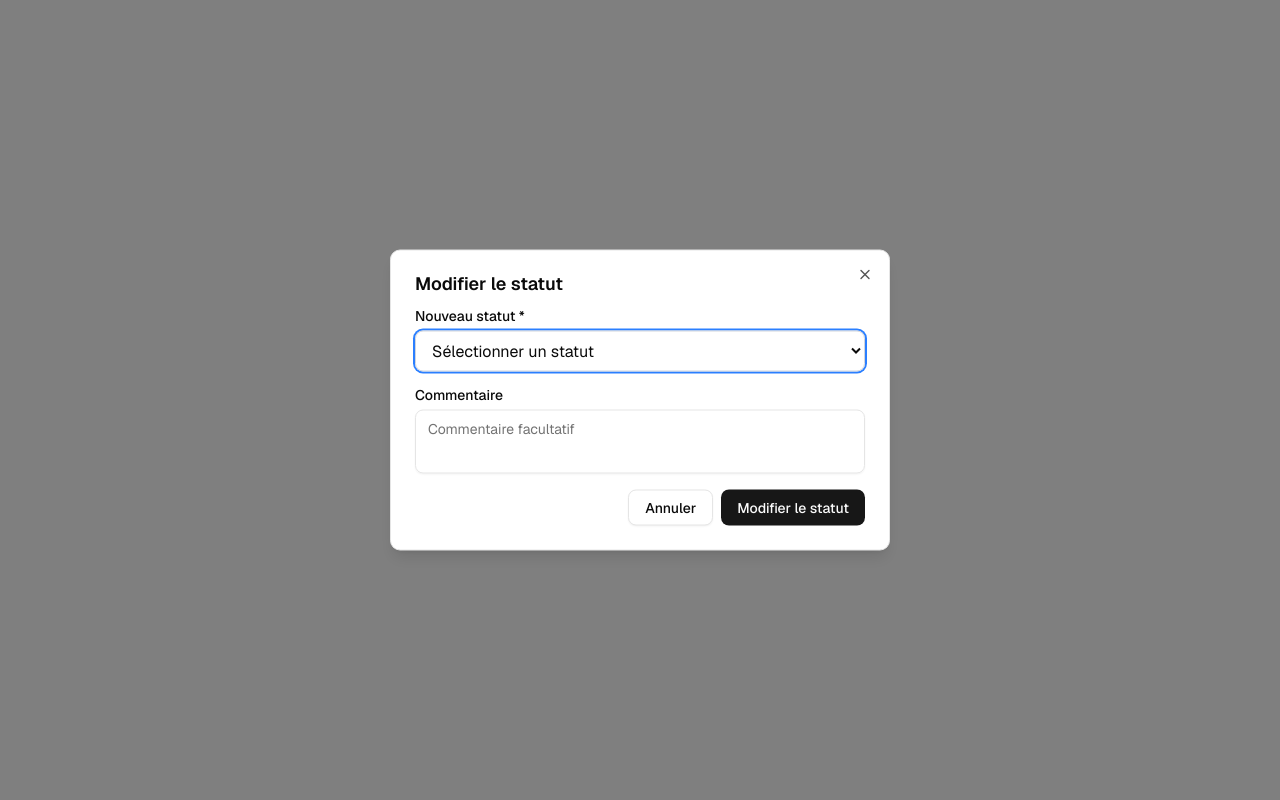
Test case: StatusModifierDialog › gère les erreurs de l'action
Select "Validé" in the dropdown labelled "Nouveau statut *" at coordinates (640, 351), box [415,330,865,372]
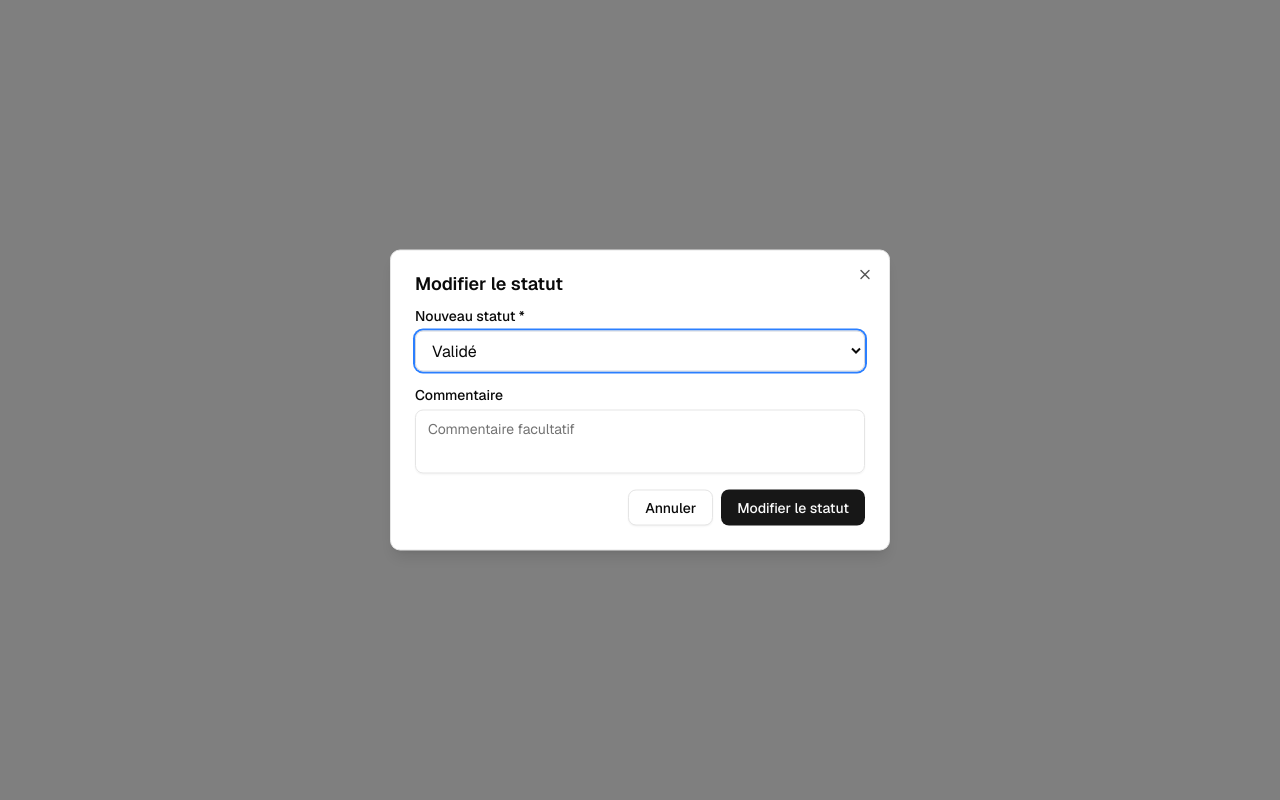
Click the button "Modifier le statut".
click(793, 508)  # box [721,490,865,526]
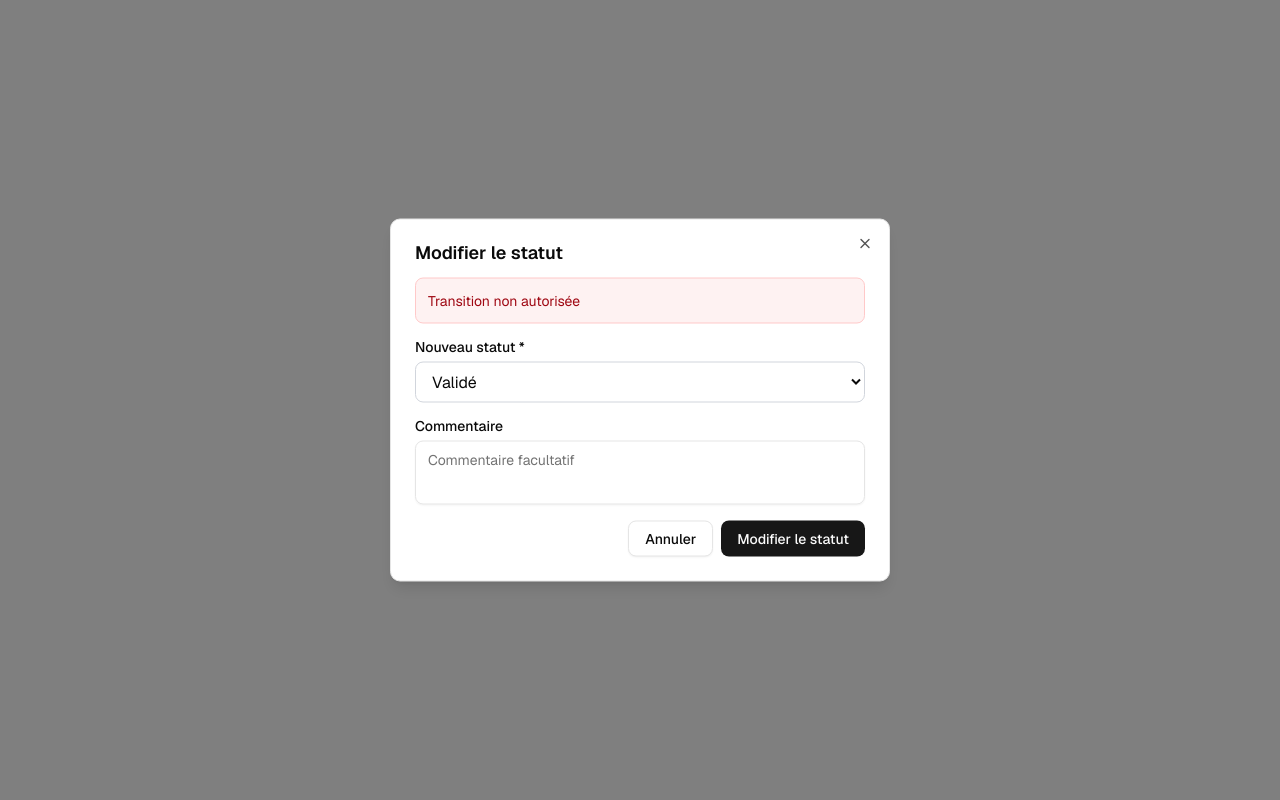
Expected: the text "Transition non autorisée" is shown, [415,278,865,324]
